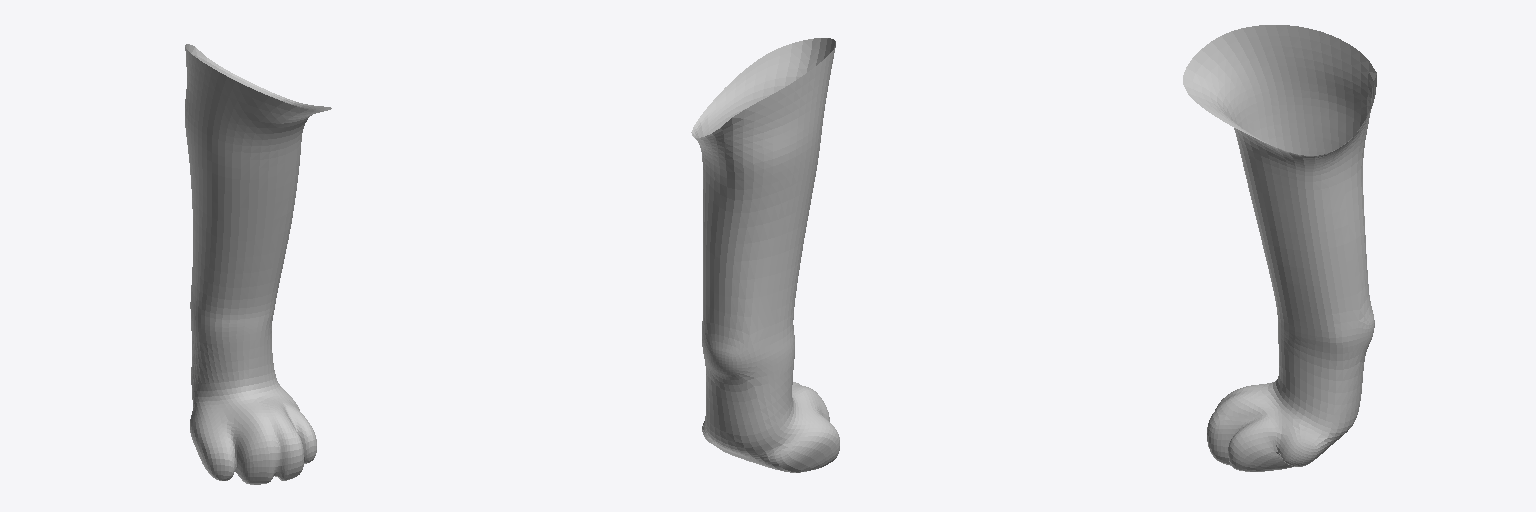
Rendered from p_d_izquierda.obj.
3 views of the same model, side by side, from view 1: azimuth 30°, elevation 25°; view 2: azimuth 150°, elevation 25°; view 3: azimuth 270°, elevation 25° (orthographic).
Visible parts, largest first — view 1: p_d_izquierda; view 2: p_d_izquierda; view 3: p_d_izquierda.
Part boxes in pixels (x1,y1,x2,y2): p_d_izquierda: (185, 44, 331, 484); p_d_izquierda: (691, 38, 839, 472); p_d_izquierda: (1183, 25, 1376, 471).
Size of the model in its own units: 4.57 by 15.13 by 6.46.